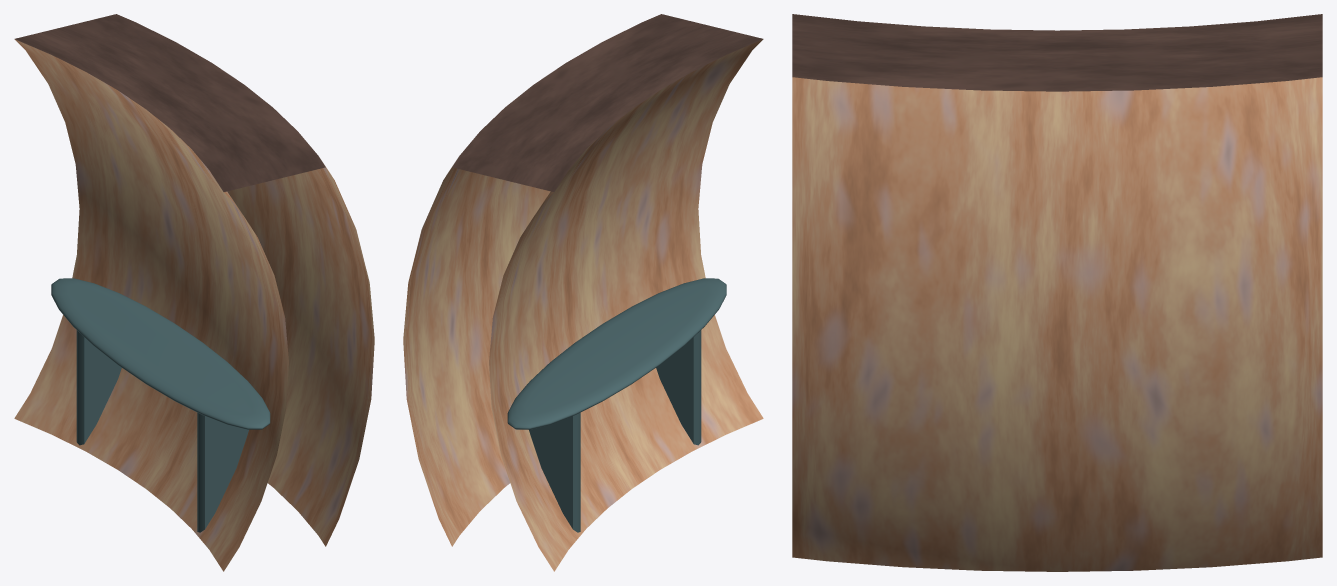
Rendered from FI_029_030_francos_building_wall_shelf.glb.
3 views of the same model, side by side, from view 1: azimuth 30°, elevation 25°; view 2: azimuth 150°, elevation 25°; view 3: azimuth 270°, elevation 25° (orthographic). The views are drawn at different scales.
Visible parts, largest first — view 1: wall_shelf, shelf; view 2: wall_shelf, shelf; view 3: wall_shelf.
Part boxes in pixels (x1,y1,x2,y2): wall_shelf: [14, 14, 374, 571]; shelf: [51, 278, 270, 532]; wall_shelf: [403, 14, 763, 571]; shelf: [507, 278, 726, 532]; wall_shelf: [792, 14, 1322, 571].
Size of the model in its own units: 1.44 by 3 by 3.
Materials: 3 (2 with a texture image).
